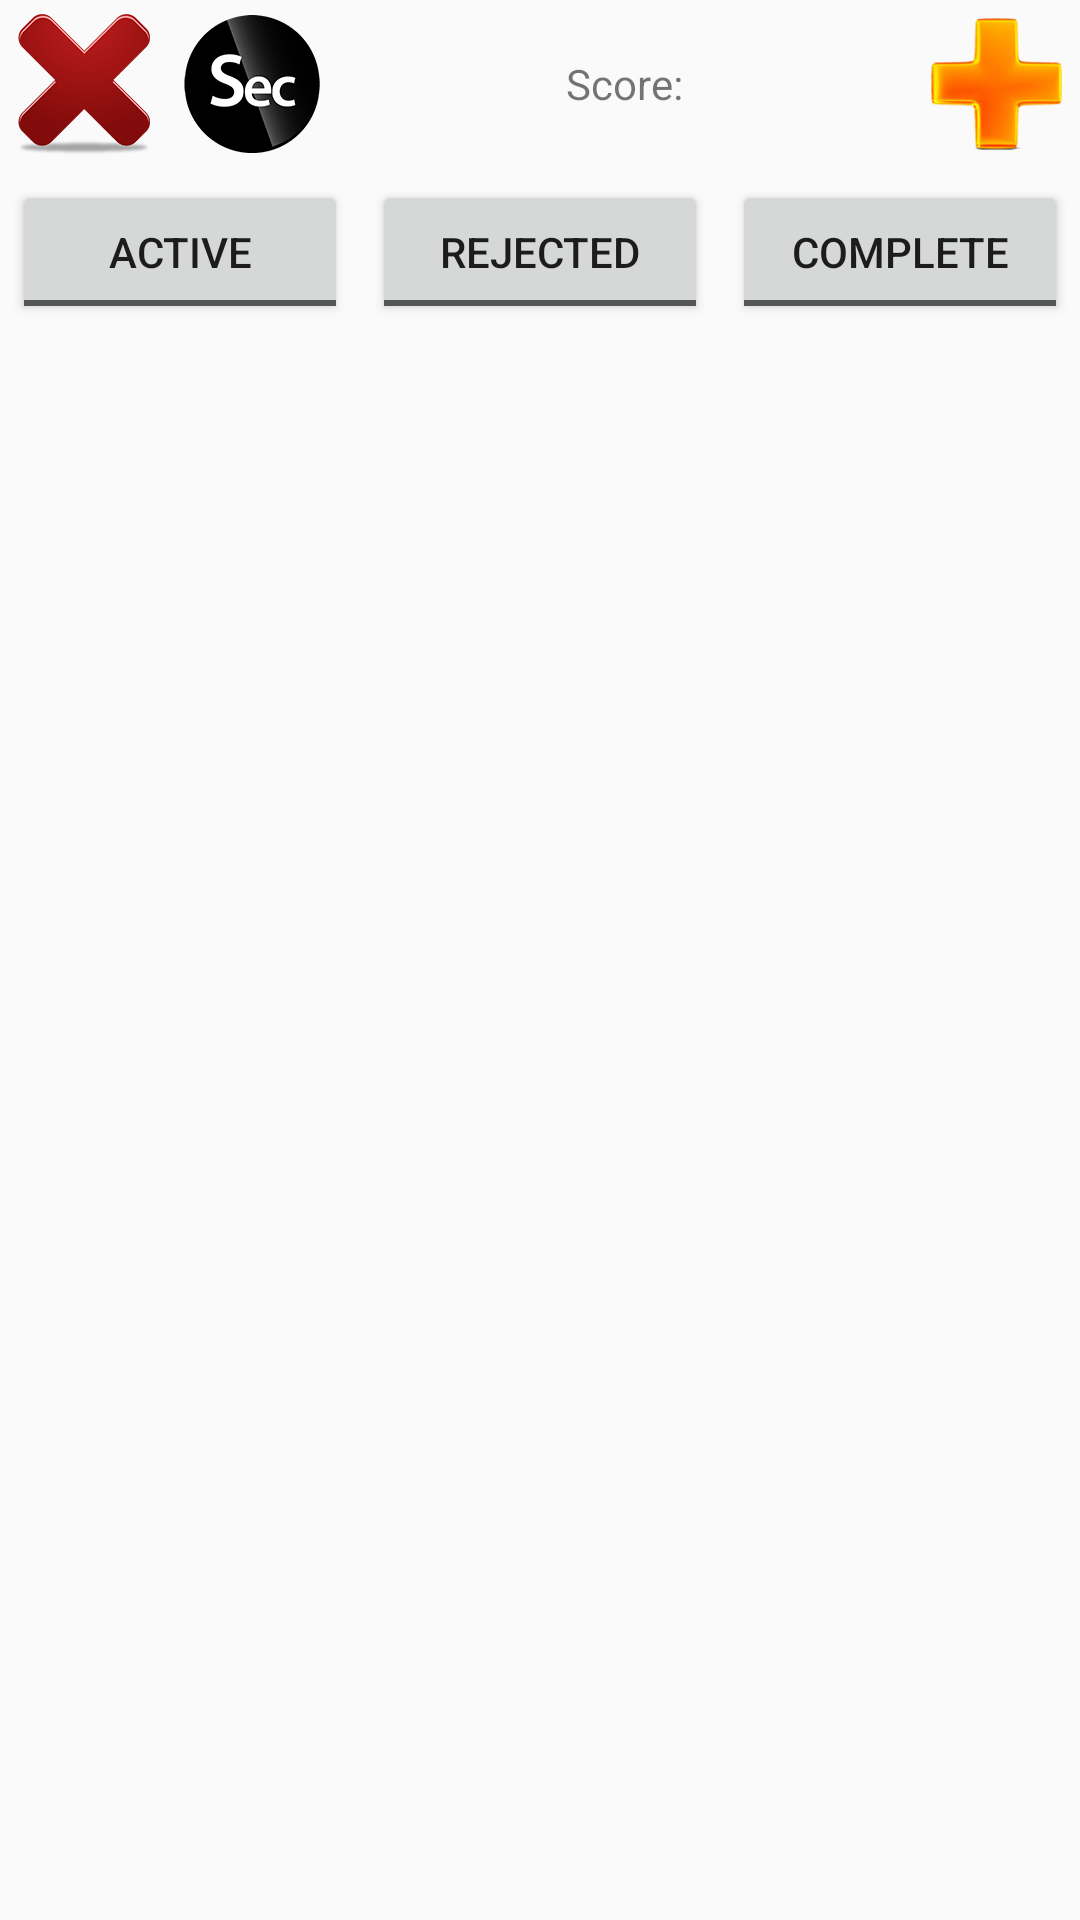

Screen size 1080px x 1920px. Icon name, then its box in pixels as (x1, y1, x2, y2):
add: (931, 18, 1062, 150)
cancel all: (18, 14, 150, 152)
